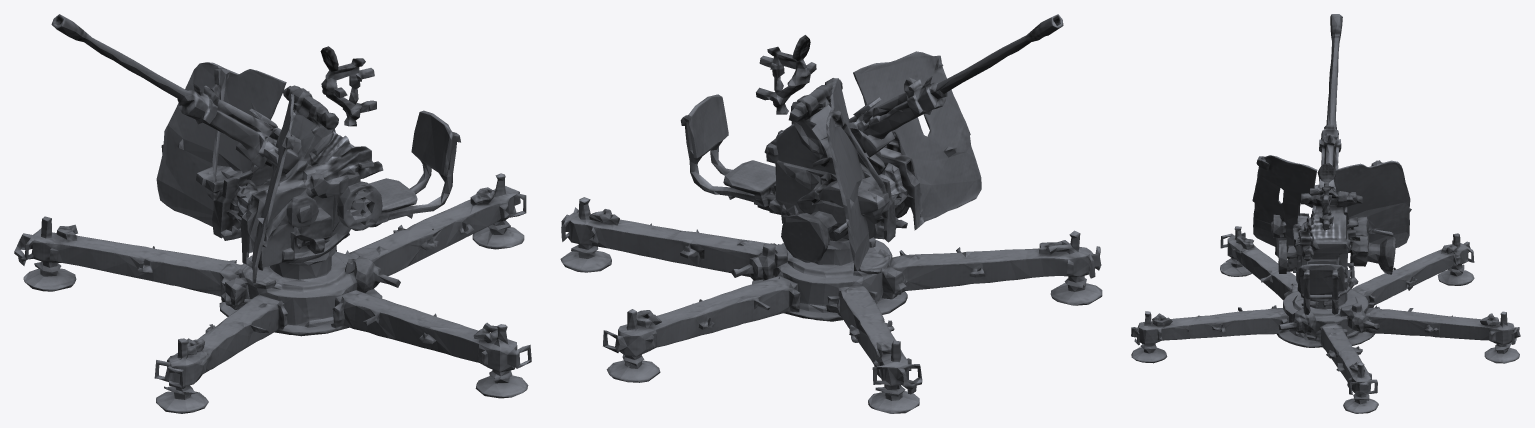
The model's file is flak38_hull.obj.
3 renders of one model, left to right at view 1: azimuth 30°, elevation 25°; view 2: azimuth 150°, elevation 25°; view 3: azimuth 270°, elevation 25°, orthographic. The views are drawn at different scales.
Visible parts, largest first — view 1: flak38_hull; view 2: flak38_hull; view 3: flak38_hull.
Part boxes in pixels (bbox=[...]): flak38_hull: bbox=[14, 14, 531, 413]; flak38_hull: bbox=[560, 14, 1102, 413]; flak38_hull: bbox=[1131, 14, 1520, 413].
Size of the model in its own units: 4.16 by 2.87 by 4.2.
1 material, 1 textured.
